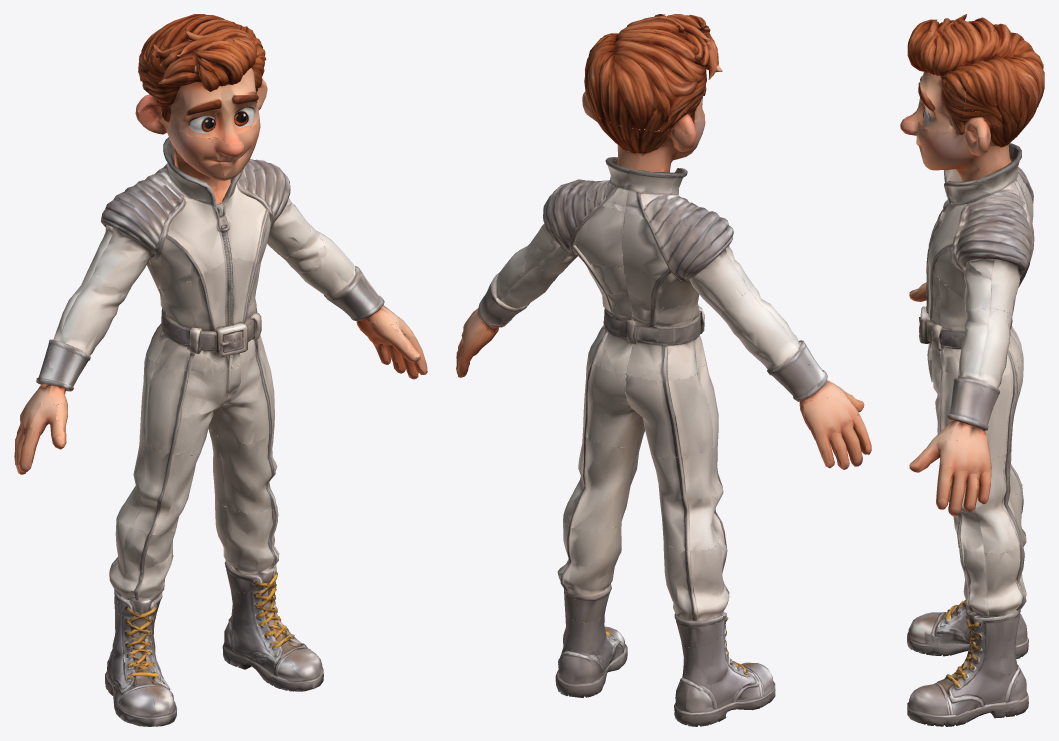
The picture shows the model from 3 angles, left to right: view 1: azimuth 30°, elevation 25°; view 2: azimuth 150°, elevation 25°; view 3: azimuth 270°, elevation 25°; orthographic projection.
Parts seen in each view (by area): view 1: tripo_node_cea8a70d-8ec4-4711-886c-99192ff469f8; view 2: tripo_node_cea8a70d-8ec4-4711-886c-99192ff469f8; view 3: tripo_node_cea8a70d-8ec4-4711-886c-99192ff469f8.
Part boxes in pixels (bbox=[...]): tripo_node_cea8a70d-8ec4-4711-886c-99192ff469f8: bbox=[14, 14, 427, 726]; tripo_node_cea8a70d-8ec4-4711-886c-99192ff469f8: bbox=[456, 14, 871, 726]; tripo_node_cea8a70d-8ec4-4711-886c-99192ff469f8: bbox=[900, 14, 1044, 726].
Size of the model in its own units: 0.6263 by 0.9801 by 0.1954.
1 material, 1 textured.
